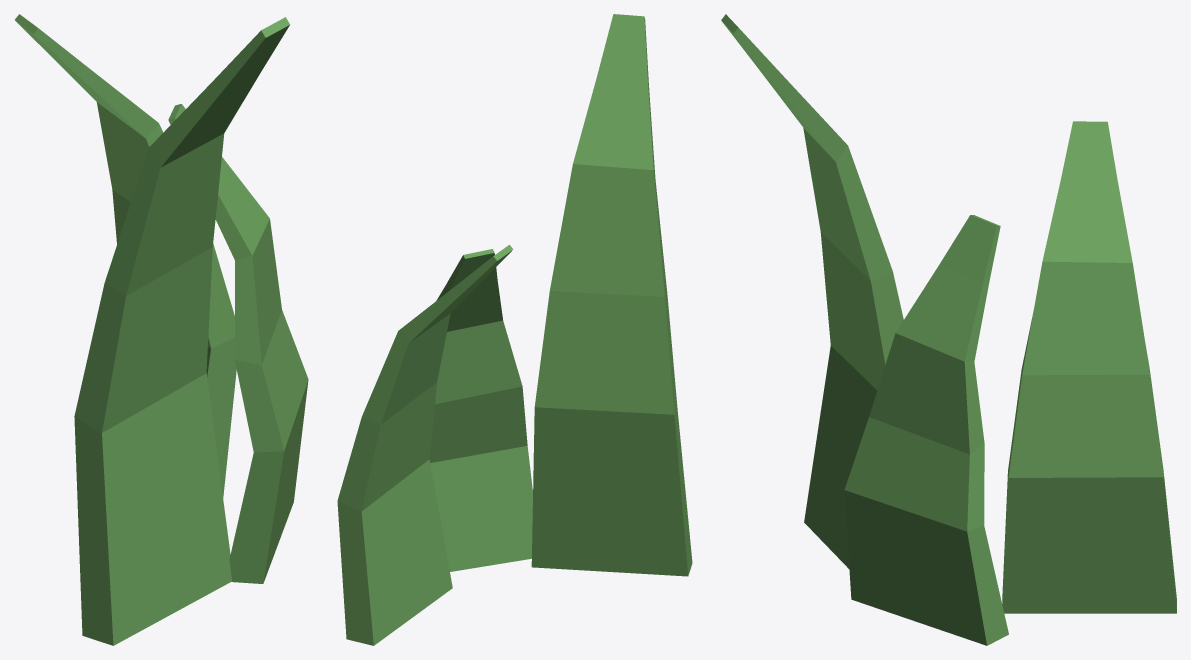
Rendered from grass2.gltf.
The picture shows the model from 3 angles, left to right: view 1: azimuth 30°, elevation 25°; view 2: azimuth 150°, elevation 25°; view 3: azimuth 270°, elevation 25°; orthographic projection. The views are drawn at different scales.
Parts seen in each view (by area): view 1: grass1; view 2: grass1; view 3: grass1.
Boxes of the visible parts, bbox=[...] form: grass1: bbox=[15, 14, 308, 645]; grass1: bbox=[337, 14, 692, 645]; grass1: bbox=[721, 14, 1176, 645].
Size of the model in its own units: 1.33 by 2.64 by 1.97.
